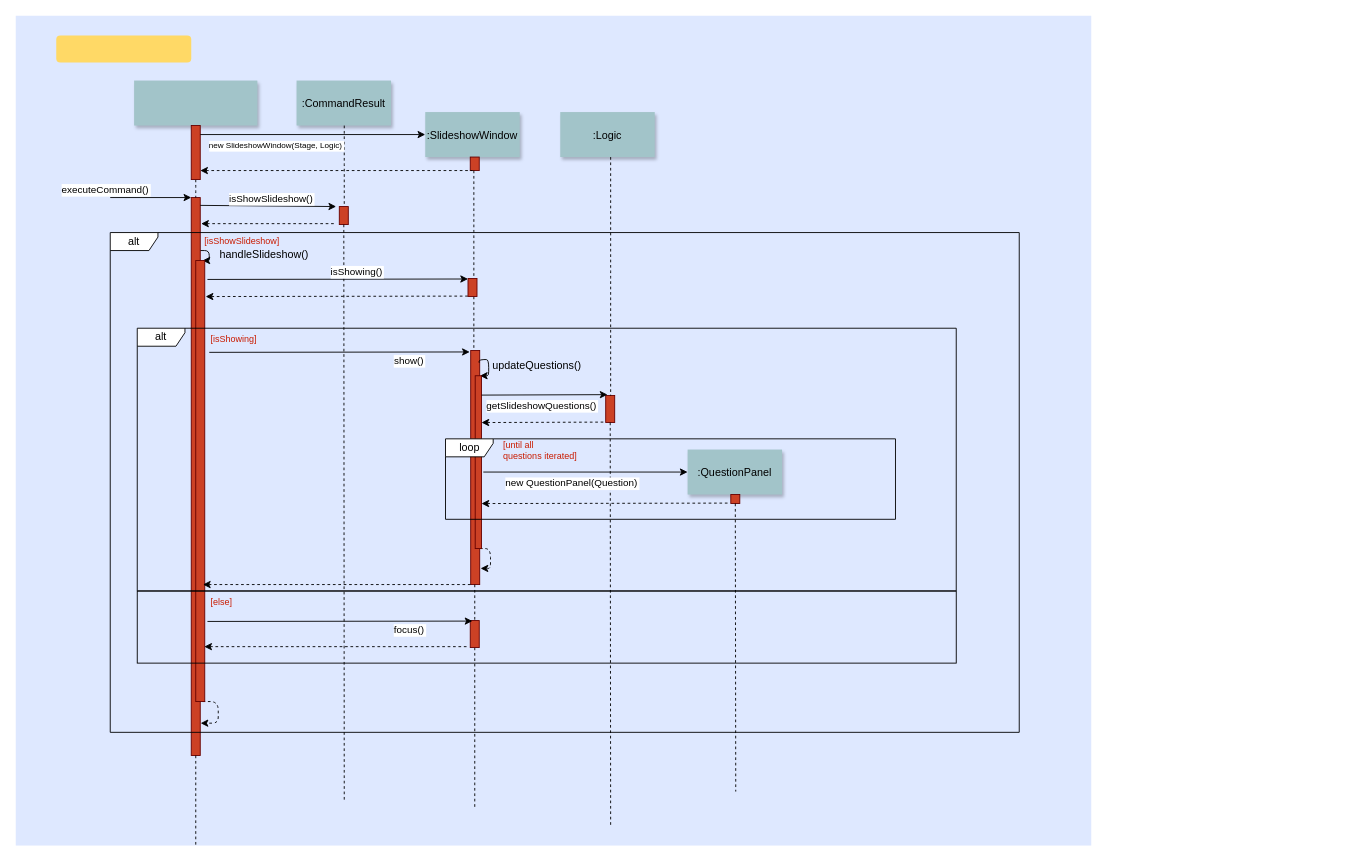
Some shapes in this 1367 by 862 pixel diagram are drawn without their labels. The centre of each missing label's shape, as x and y in pixels:
:MainWindow: the point at 196,103
Slideshow feature: the point at 123,48
